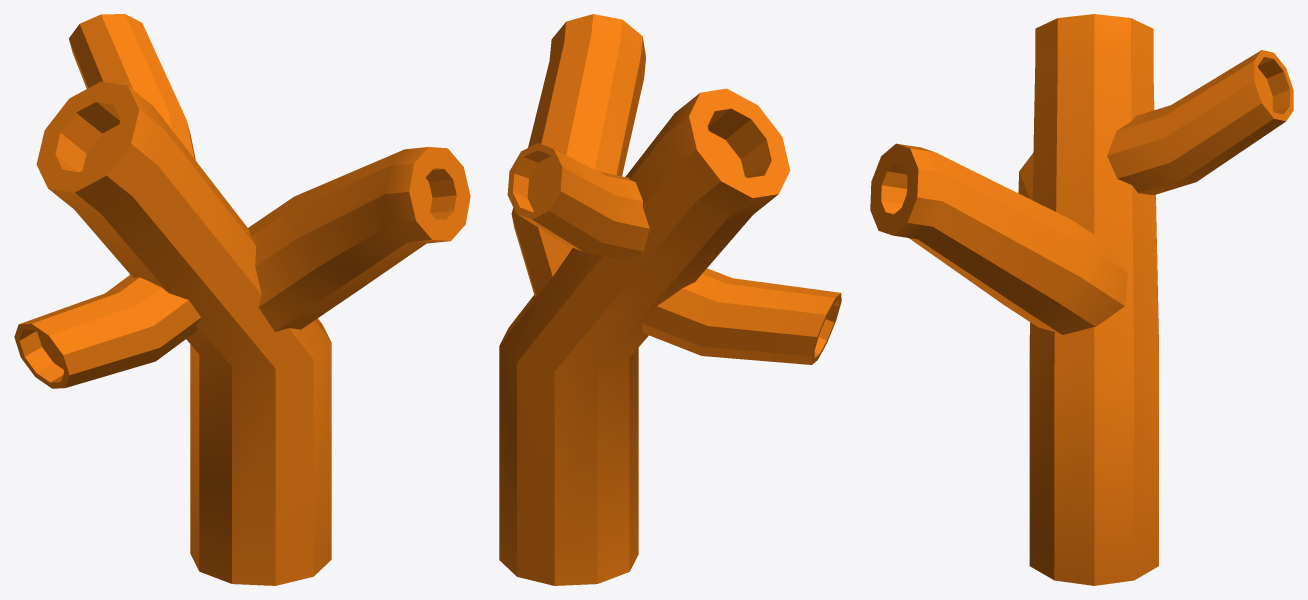
The model's file is Coral orange.fbx.
The picture shows the model from 3 angles, left to right: view 1: azimuth 30°, elevation 25°; view 2: azimuth 150°, elevation 25°; view 3: azimuth 270°, elevation 25°; orthographic projection. The views are drawn at different scales.
Visible parts, largest first — view 1: Coral_orange; view 2: Coral_orange; view 3: Coral_orange.
Boxes of the visible parts, x1=… form: Coral_orange: x1=14, y1=14, x2=470, y2=585; Coral_orange: x1=499, y1=14, x2=841, y2=585; Coral_orange: x1=870, y1=14, x2=1293, y2=585.
Size of the model in its own units: 33.86 by 44.8 by 35.72.
